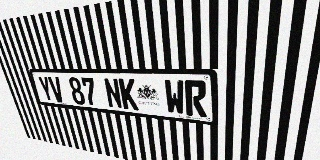7: (80, 77, 99, 106)
8: (67, 77, 86, 105)
K: (118, 78, 139, 111)
N: (103, 78, 123, 109)
R: (184, 80, 207, 117)
V: (48, 76, 66, 103)
W: (164, 79, 186, 115)
Y: (37, 76, 55, 102)
